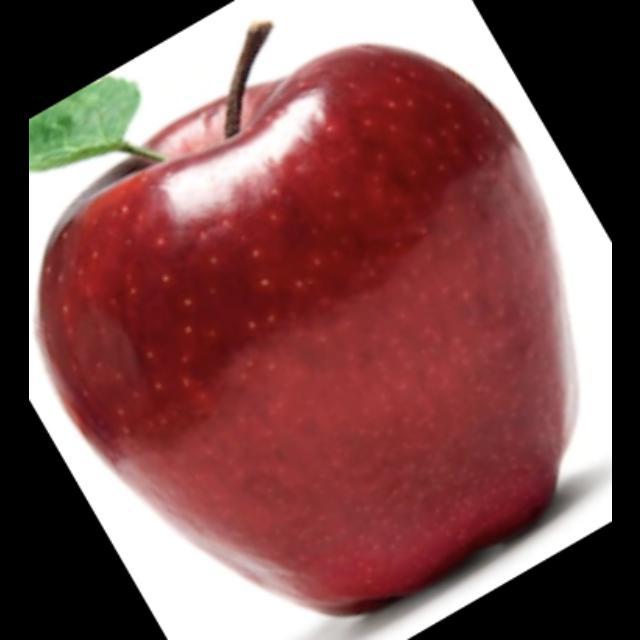Apel Segar: (36, 43, 566, 619)
